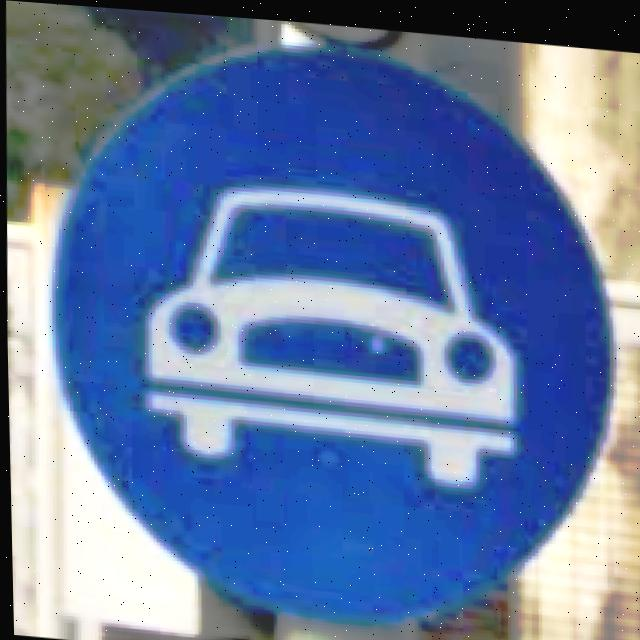car: (33, 14, 625, 640)
